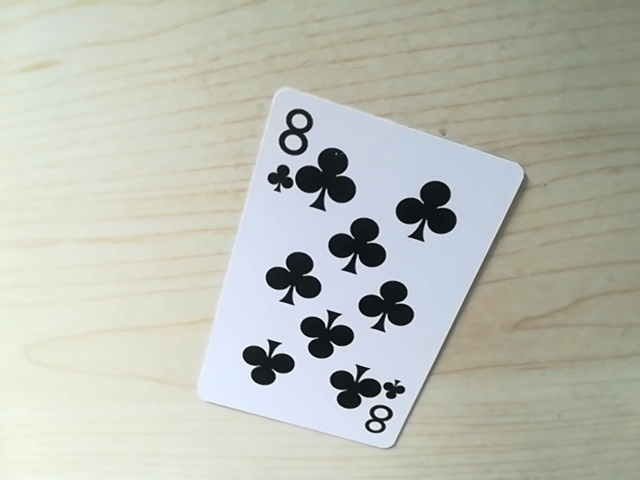mh 8: (260, 95, 325, 194), (356, 383, 406, 443)
